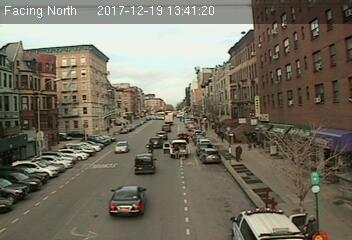car: (106, 186, 150, 217), (134, 152, 158, 173), (198, 148, 221, 163), (149, 136, 165, 150), (114, 141, 128, 153)
police: (230, 207, 301, 240)
truck: (169, 139, 188, 158)
